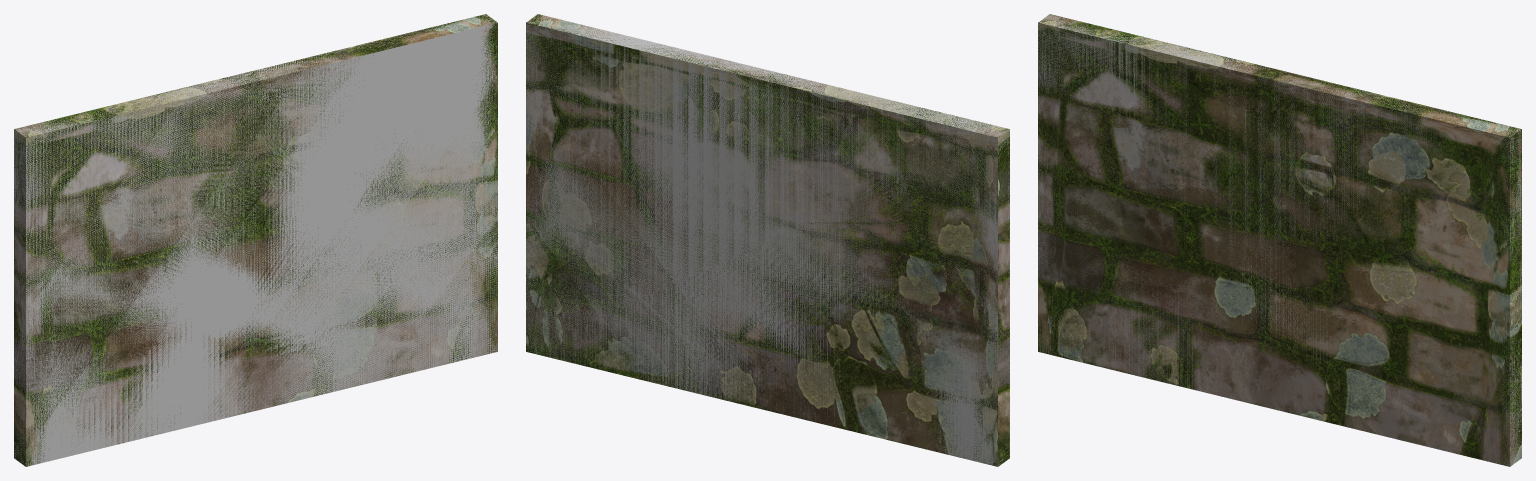
File: SM_Wall.fbx
The picture shows the model from 3 angles, left to right: view 1: azimuth 30°, elevation 25°; view 2: azimuth 150°, elevation 25°; view 3: azimuth 330°, elevation 25°; orthographic projection.
Parts seen in each view (by area): view 1: SM_Wall_ConvexHulls, SM_Wall; view 2: SM_Wall, SM_Wall_ConvexHulls; view 3: SM_Wall, SM_Wall_ConvexHulls.
Boxes of the visible parts, x1=… form: SM_Wall_ConvexHulls: x1=14, y1=14, x2=497, y2=466; SM_Wall: x1=14, y1=14, x2=497, y2=466; SM_Wall: x1=526, y1=14, x2=1009, y2=466; SM_Wall_ConvexHulls: x1=526, y1=14, x2=1009, y2=466; SM_Wall: x1=1038, y1=14, x2=1521, y2=466; SM_Wall_ConvexHulls: x1=1038, y1=14, x2=1521, y2=466.
Size of the model in its own units: 600 by 26 by 400.
2 materials, 1 textured.
